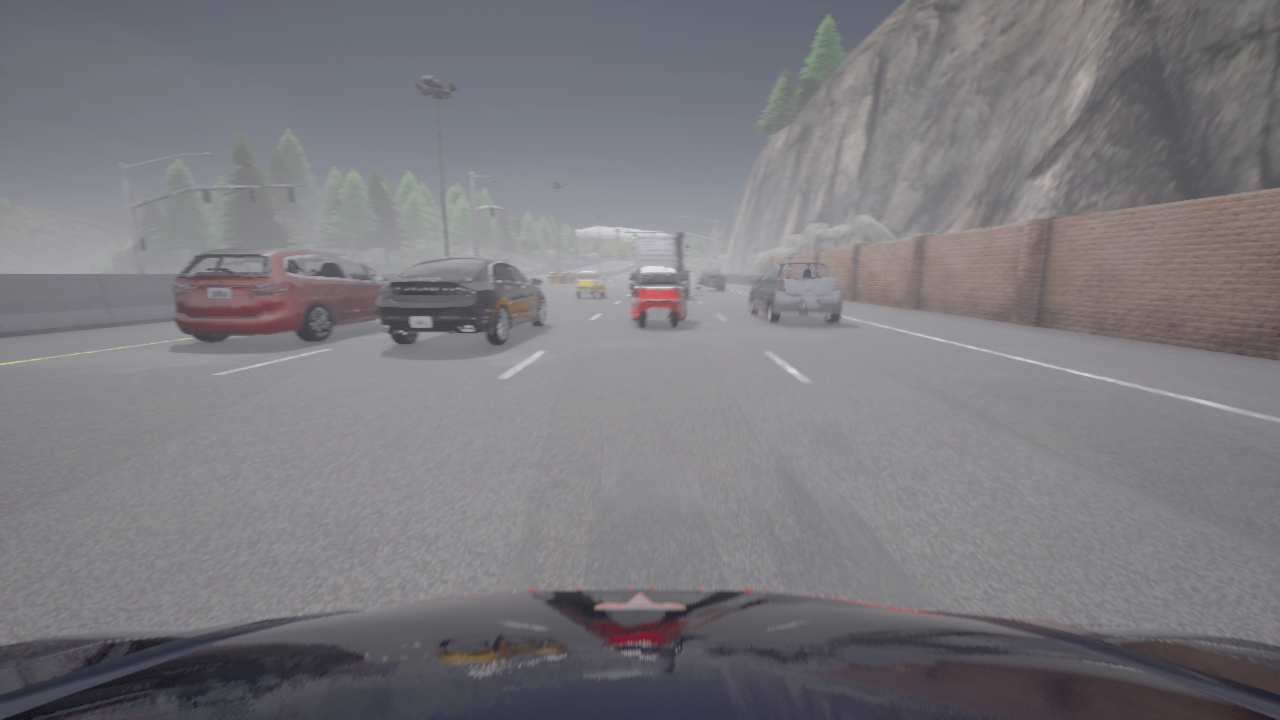cyclist: (0, 588, 1279, 719), (173, 247, 391, 341), (377, 256, 546, 344), (749, 261, 842, 323), (630, 232, 688, 298), (629, 267, 687, 327), (575, 270, 604, 298), (693, 269, 724, 290)
